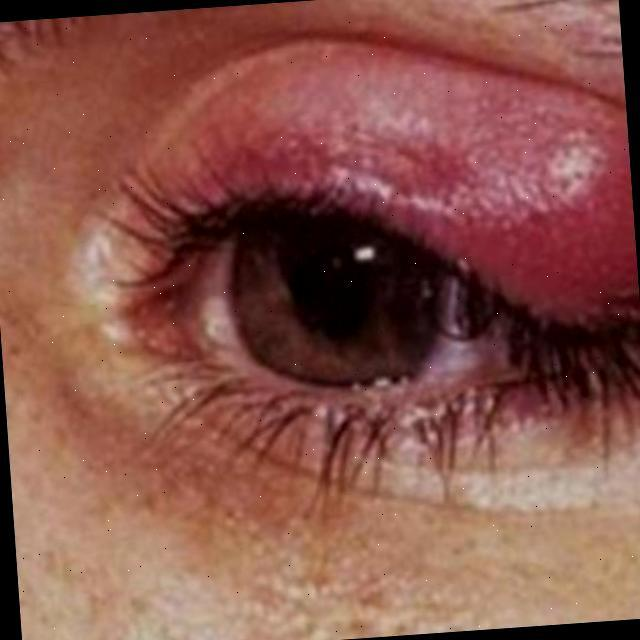Stye: (111, 14, 634, 348)
